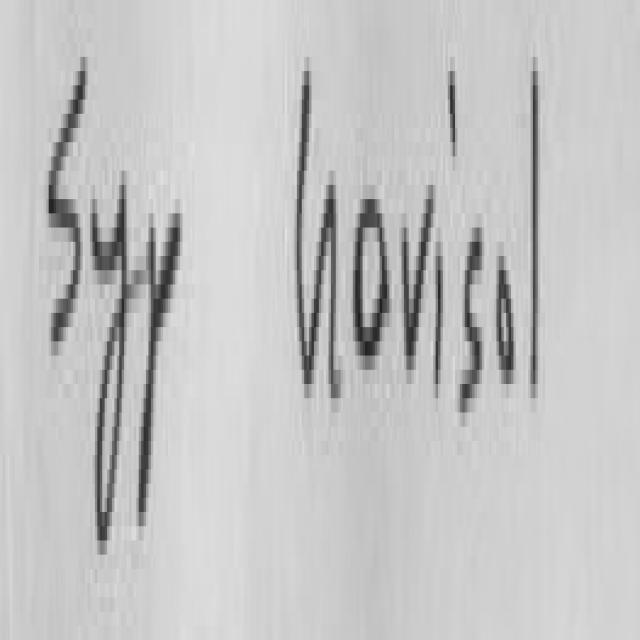G: (294, 71, 341, 391)
S: (49, 57, 84, 334)
a: (353, 199, 394, 362)
i: (434, 256, 442, 377), (449, 71, 457, 149)
l: (529, 71, 539, 391)
o: (493, 256, 513, 377)
p: (140, 212, 180, 519)
s: (461, 216, 484, 405)
v: (404, 185, 434, 392)
y: (92, 185, 127, 533)
